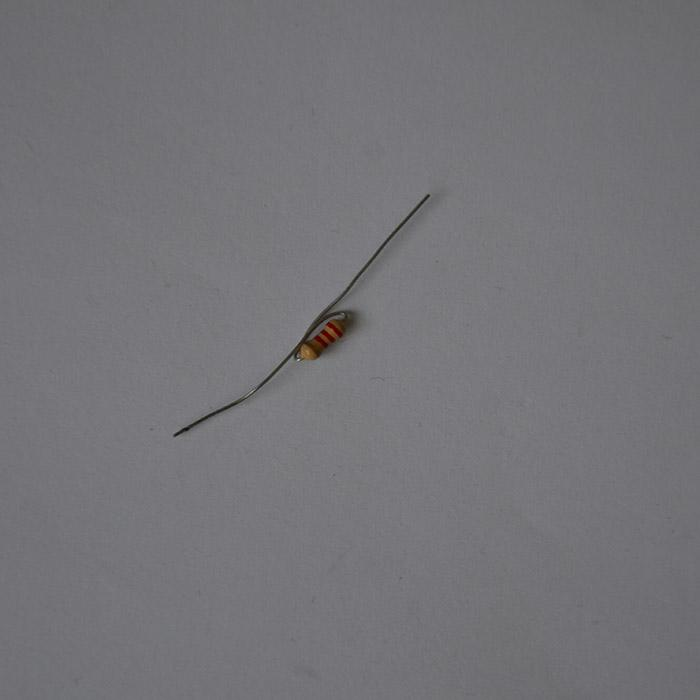resistor: (298, 316, 347, 361)
